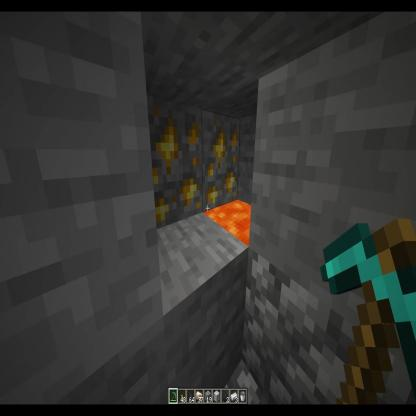gold ore: (144, 97, 203, 235), (201, 107, 241, 217)
